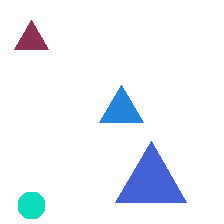circle: (18, 192, 44, 218)
triangle: (115, 141, 186, 202), (99, 85, 143, 122), (14, 20, 48, 49)
